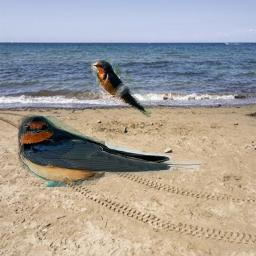Swallow: (14, 112, 202, 187), (91, 59, 151, 117)
